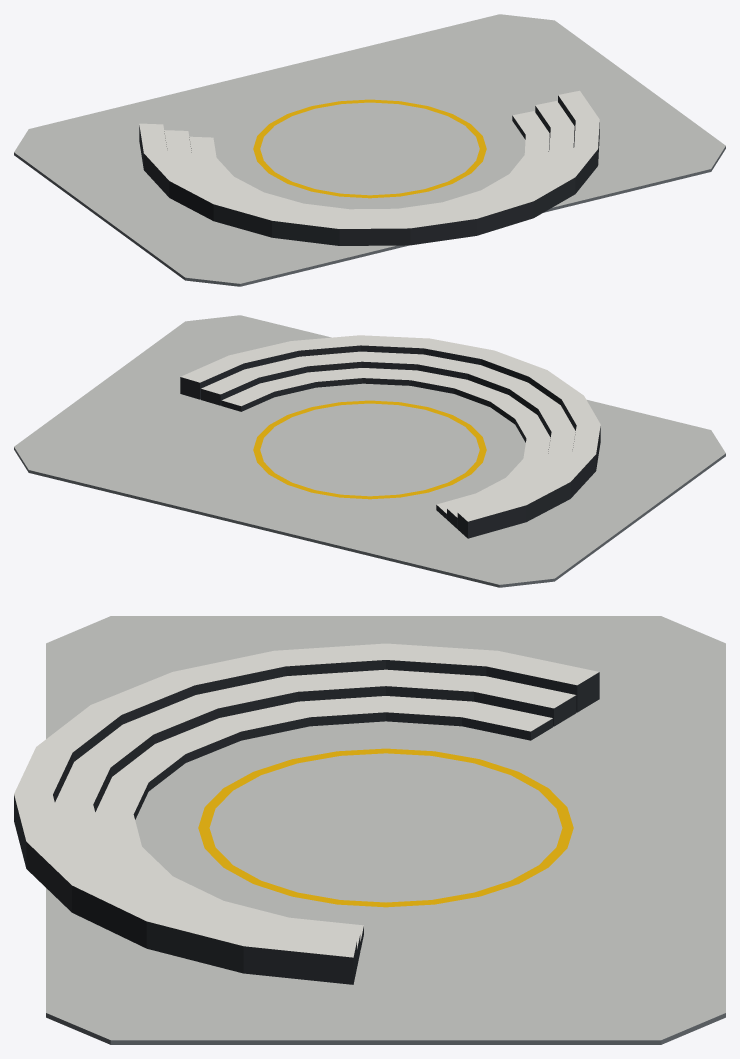
Rendered from COMMUNITY_OPEN_FORUM.glb.
The picture shows the model from 3 angles, top to bottom: view 1: azimuth 30°, elevation 25°; view 2: azimuth 150°, elevation 25°; view 3: azimuth 270°, elevation 25°; orthographic projection. The views are drawn at different scales.
Parts seen in each view (by area): view 1: CIVRUM_GAME_COMMUNITY_OPEN_FORUM; view 2: CIVRUM_GAME_COMMUNITY_OPEN_FORUM; view 3: CIVRUM_GAME_COMMUNITY_OPEN_FORUM.
Boxes of the visible parts, x1=… form: CIVRUM_GAME_COMMUNITY_OPEN_FORUM: x1=14, y1=14, x2=725, y2=286; CIVRUM_GAME_COMMUNITY_OPEN_FORUM: x1=14, y1=315, x2=725, y2=587; CIVRUM_GAME_COMMUNITY_OPEN_FORUM: x1=14, y1=616, x2=725, y2=1044.
Size of the model in its own units: 31 by 1.09 by 21.99.
